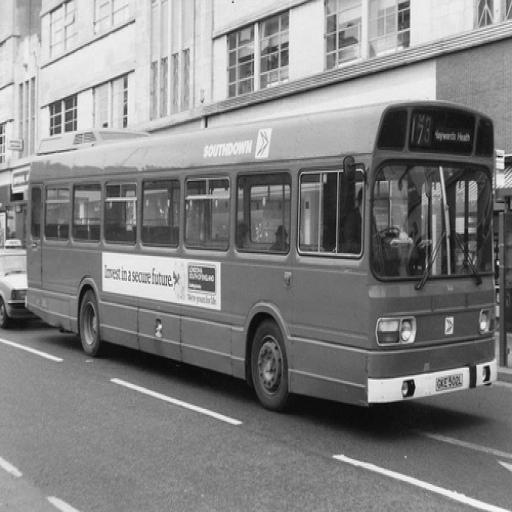bus: (24, 98, 498, 415)
car: (0, 237, 40, 331)
person: (342, 184, 382, 254), (269, 224, 291, 253)
